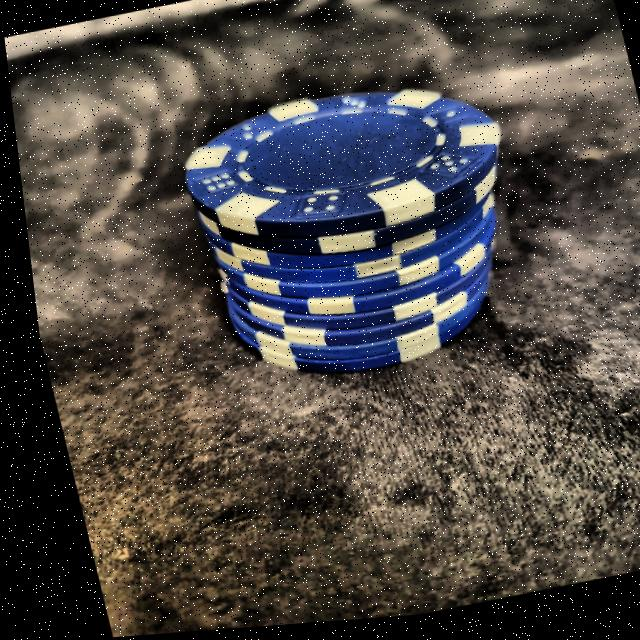Chip: (134, 63, 566, 413)
